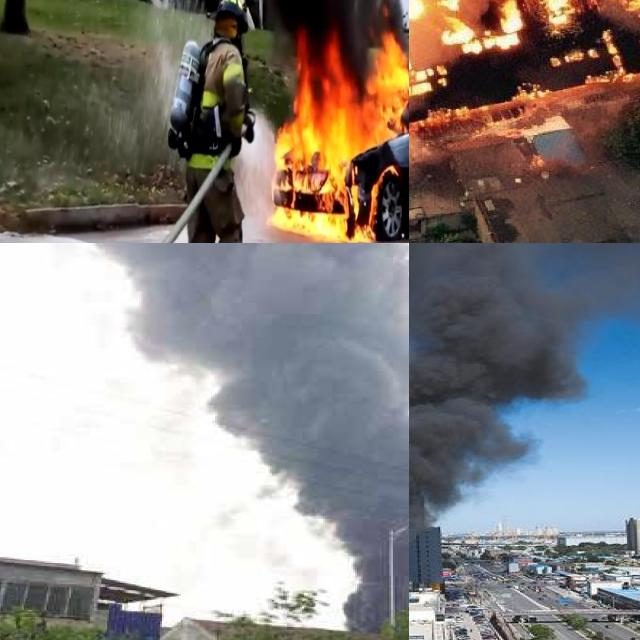fire: (264, 22, 409, 243), (409, 0, 640, 111)
smoke: (71, 243, 409, 627), (409, 243, 640, 606)
